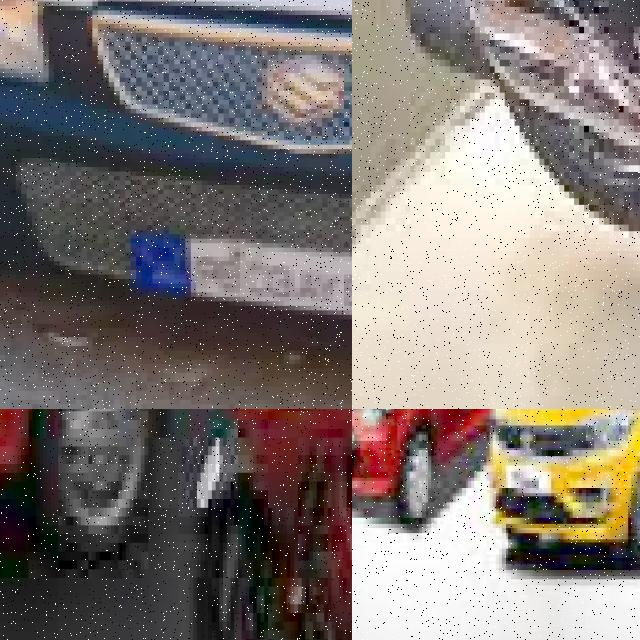bike: (352, 0, 640, 409), (193, 409, 352, 640)
car: (0, 0, 352, 341), (480, 409, 640, 551), (352, 409, 446, 539)
